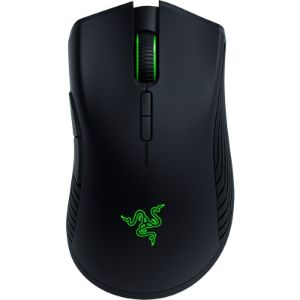mouse: (47, 1, 242, 299)
